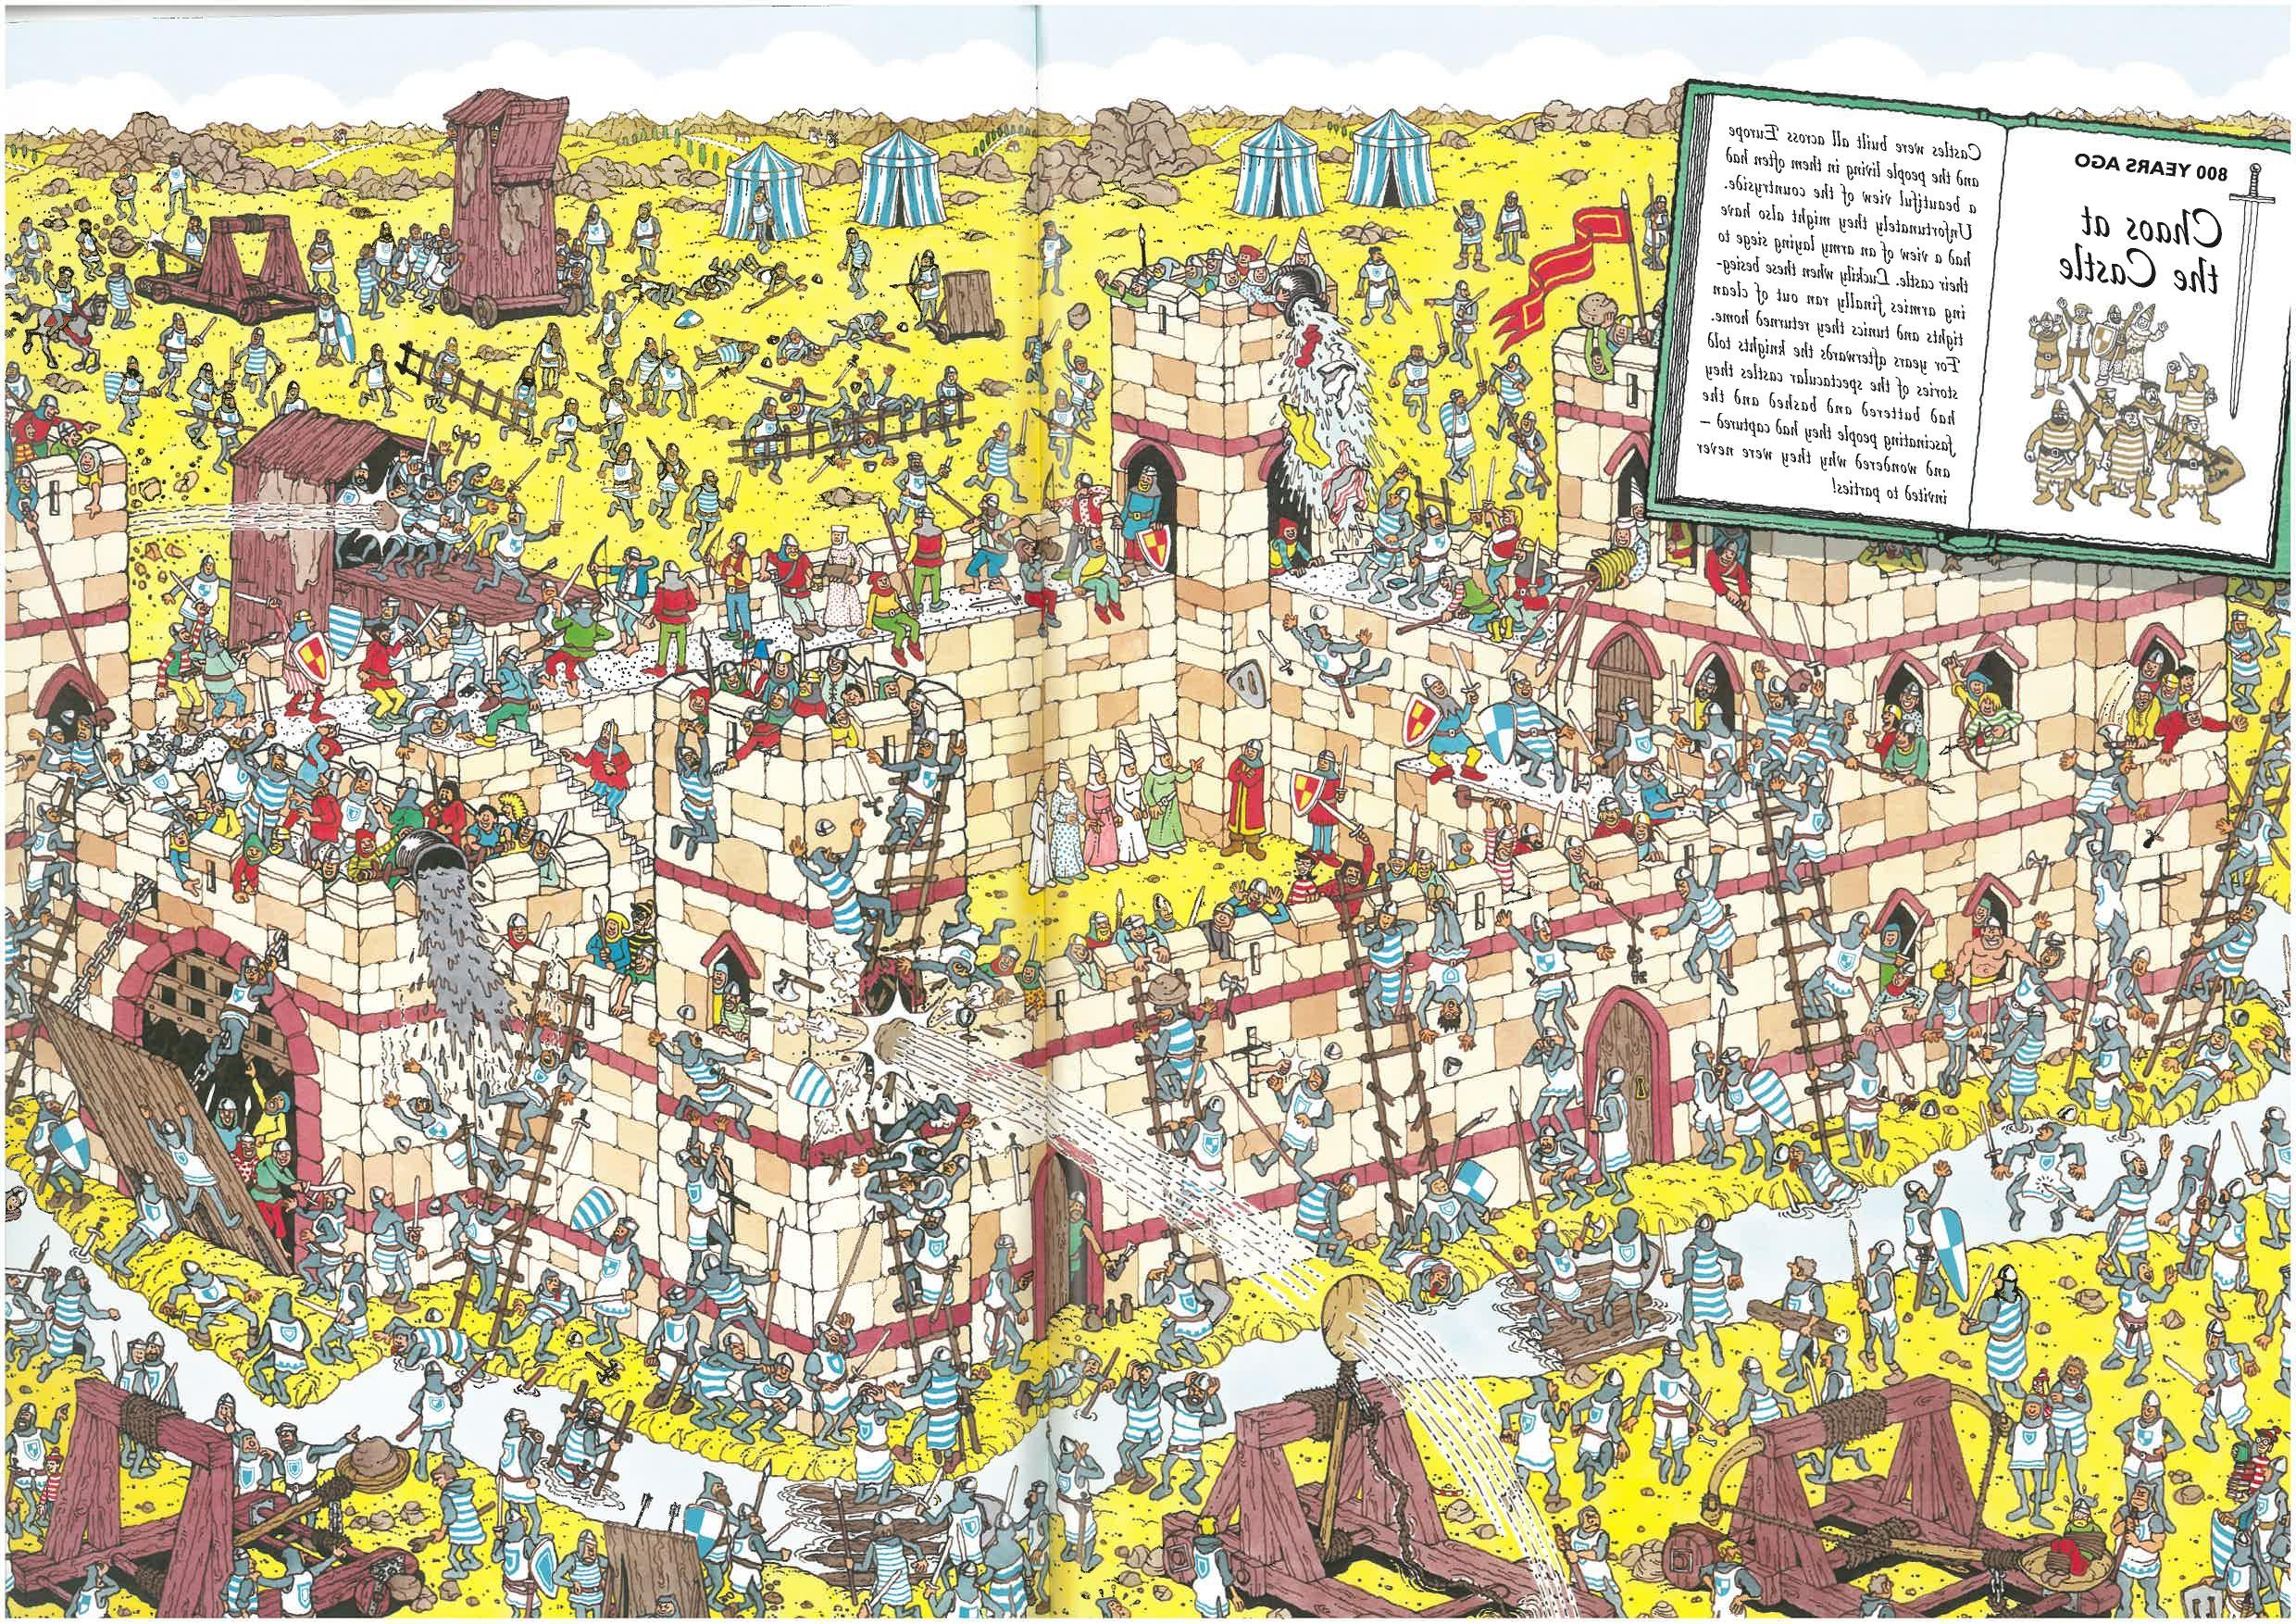waldos: (2224, 1422, 2284, 1519)
